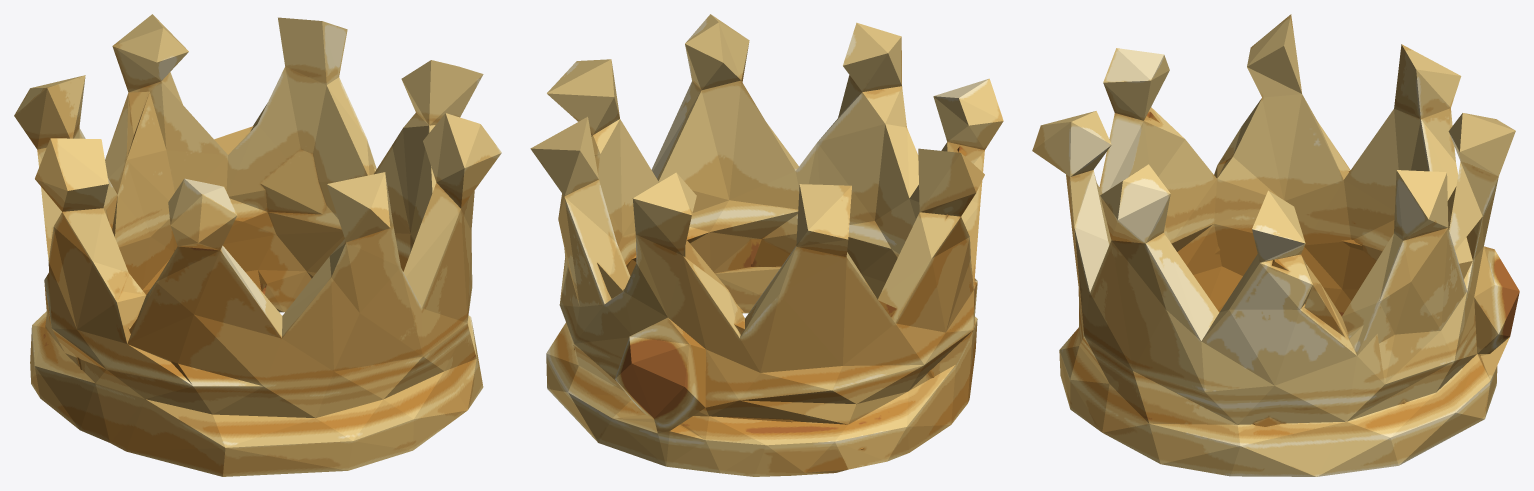
Rendered from hat-crown.glb.
3 renders of one model, left to right at view 1: azimuth 30°, elevation 25°; view 2: azimuth 150°, elevation 25°; view 3: azimuth 270°, elevation 25°, orthographic. The views are drawn at different scales.
Parts seen in each view (by area): view 1: world; view 2: world; view 3: world.
Part boxes in pixels (<box>): world: <box>14,14,501,476</box>; world: <box>530,14,1003,476</box>; world: <box>1032,14,1519,476</box>.
Size of the model in its own units: 0.3863 by 0.25 by 0.3921.
1 material, 1 textured.
